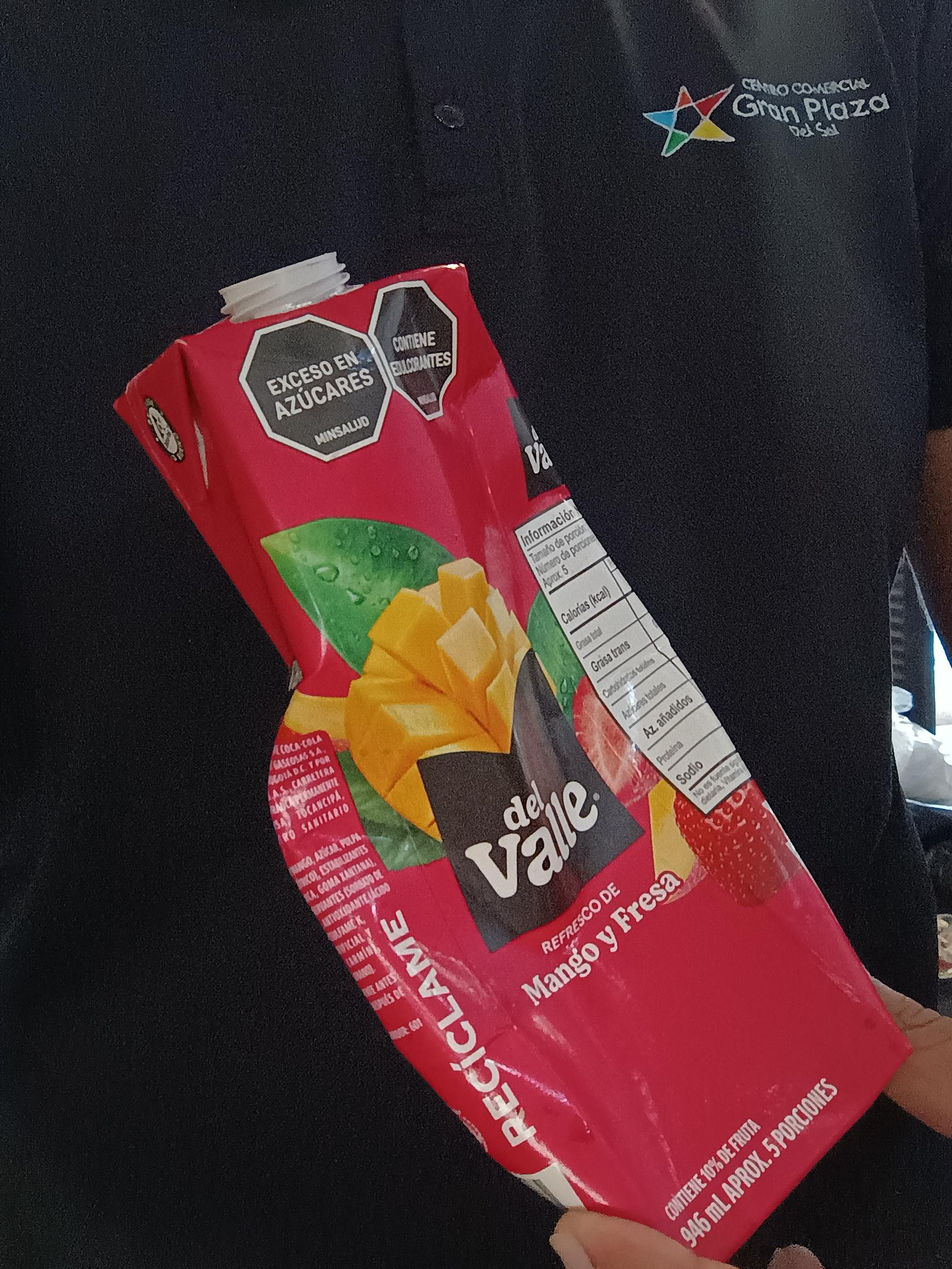Carton: (110, 262, 917, 1257)
